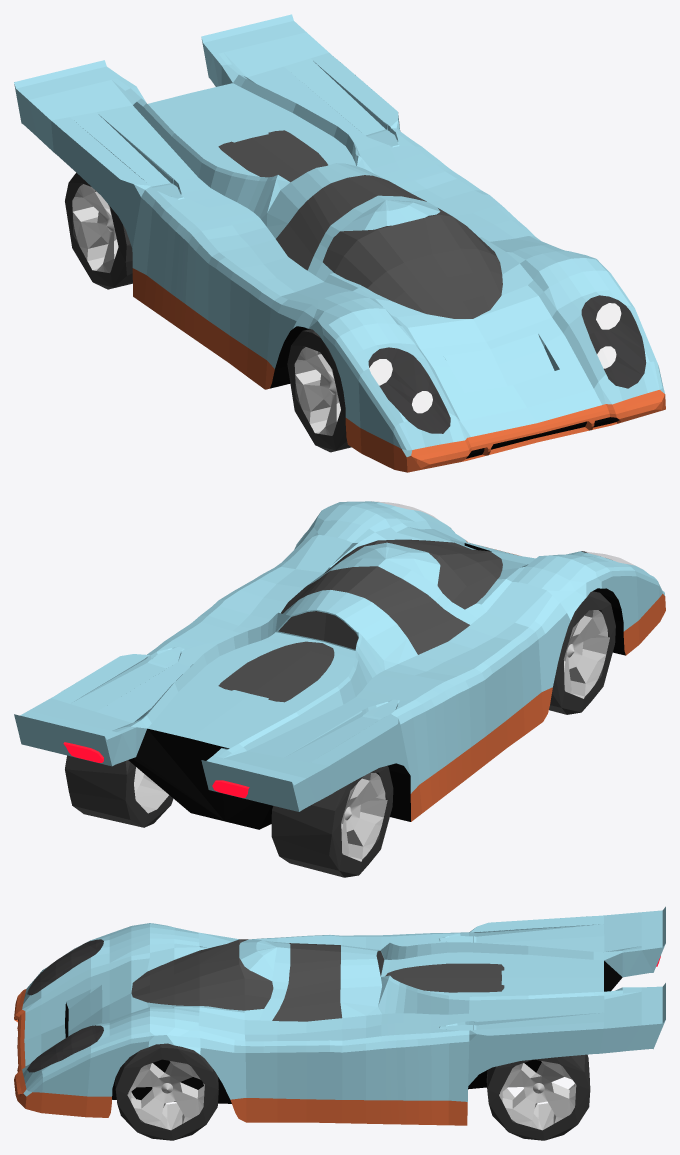
File: porsche_917_rework.glb
3 renders of one model, top to bottom at view 1: azimuth 30°, elevation 25°; view 2: azimuth 150°, elevation 25°; view 3: azimuth 270°, elevation 25°, orthographic. The views are drawn at different scales.
Visible parts, largest first — view 1: Cube, wheel.002, wheel.003; view 2: Cube, wheel.003, wheel.002, wheel.001; view 3: Cube, wheel, wheel.001.
Part boxes in pixels (x1=…): Cube: x1=14, y1=14, x2=665, y2=472; wheel.002: x1=287, y1=329, x2=351, y2=452; wheel.003: x1=65, y1=172, x2=132, y2=289; Cube: x1=14, y1=501, x2=665, y2=829; wheel.003: x1=271, y1=766, x2=393, y2=877; wheel.002: x1=549, y1=591, x2=615, y2=714; wheel.001: x1=65, y1=755, x2=173, y2=827; Cube: x1=14, y1=906, x2=665, y2=1125; wheel: x1=115, y1=1043, x2=218, y2=1140; wheel.001: x1=486, y1=1054, x2=590, y2=1140.
Bounding box in the file's own units: 1.92 × 1.12 × 4.66.
